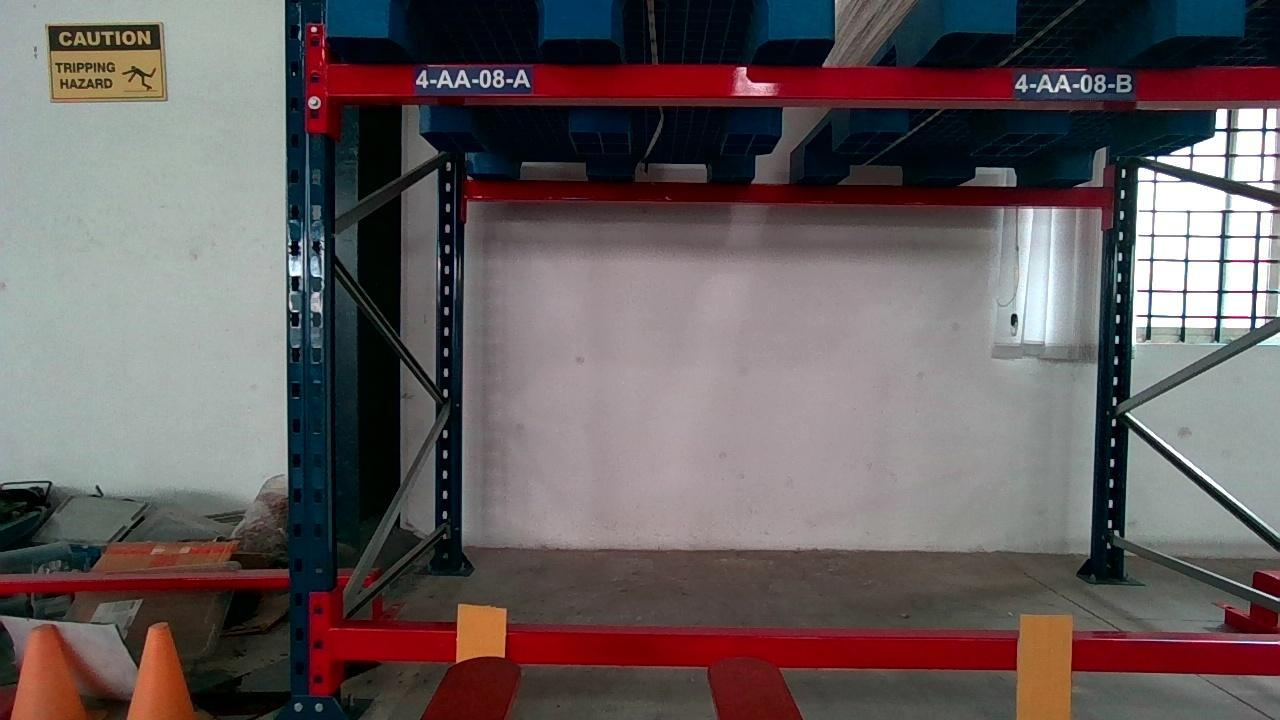h_rack: (328, 625, 1280, 673), (323, 65, 1280, 103)
orange_strip: (1016, 612, 1076, 715), (456, 603, 511, 659)
small_pallet: (318, 0, 835, 42), (935, 0, 1280, 40)
